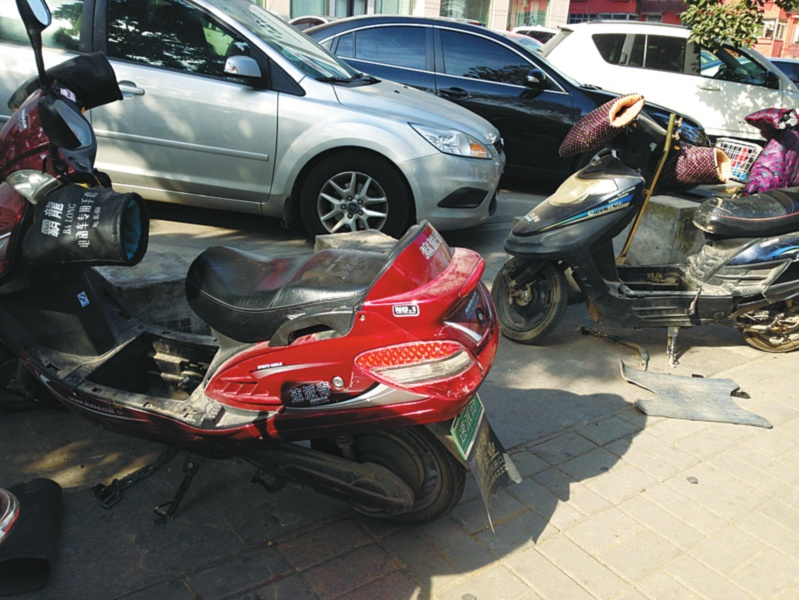non-vehicle: (0, 69, 500, 531), (490, 113, 799, 357)
